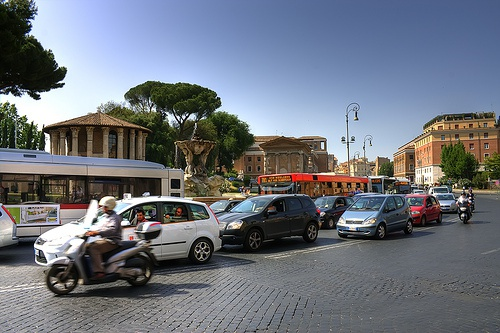non-vehicle: (43, 199, 161, 294), (454, 196, 471, 223), (468, 196, 474, 212)
